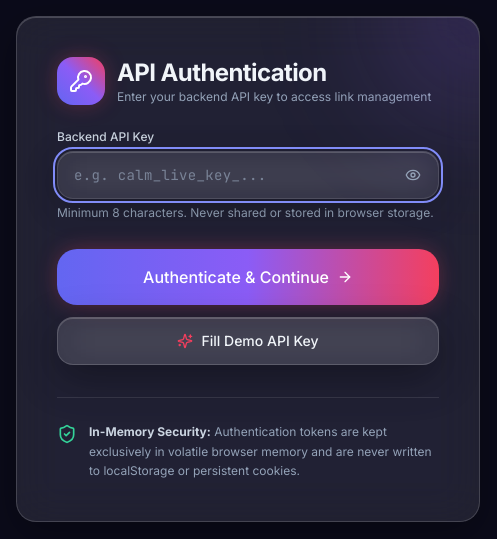
Scenario: Authentication & Protected Routes (Phase C) › validates API key length (< 8 characters rejected)
Type "short" into the password field labelled "Backend API Key" at (248, 175), box [57, 151, 439, 199]
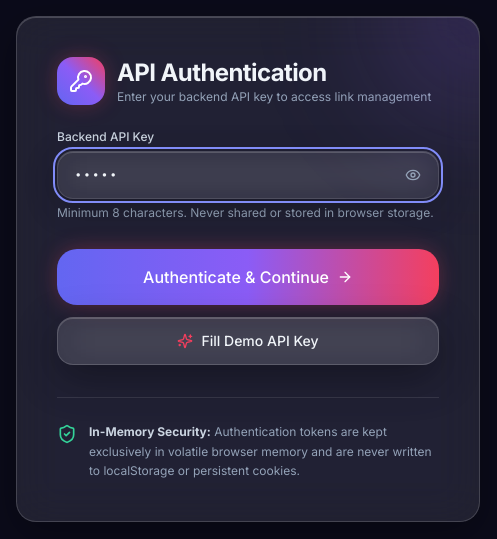
Click the button "Authenticate & Continue" at (248, 277), box [57, 249, 439, 305]
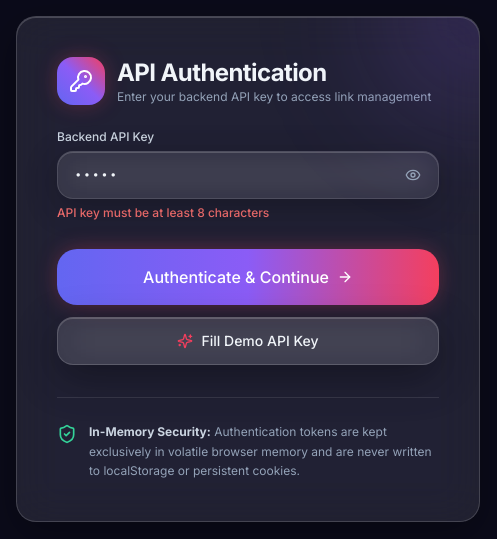
Now the text "API key must be at least 8 characters" is shown, box [57, 205, 269, 220]
